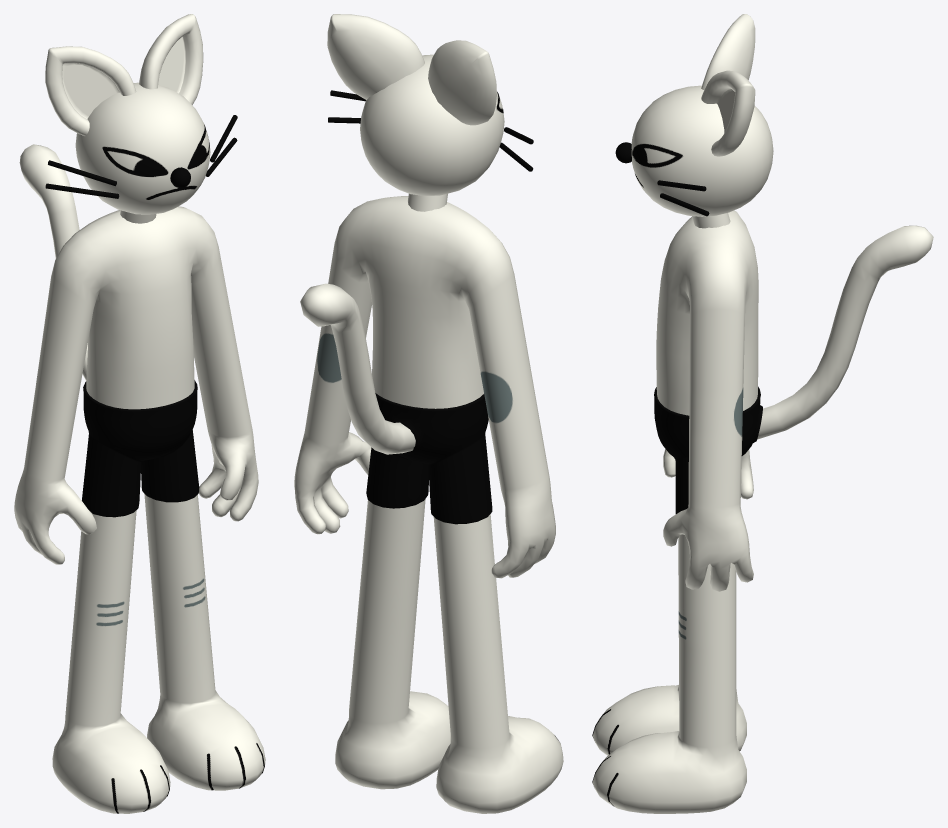
Rendered from cat01.glb.
3 views of the same model, side by side, from view 1: azimuth 30°, elevation 25°; view 2: azimuth 150°, elevation 25°; view 3: azimuth 270°, elevation 25° (orthographic). The views are drawn at different scales.
Visible parts, largest first — view 1: Body, Head; view 2: Body, Head; view 3: Body, Head.
Boxes of the visible parts, x1=… form: Body: x1=14, y1=144, x2=265, y2=813; Head: x1=45, y1=14, x2=237, y2=214; Body: x1=294, y1=193, x2=563, y2=813; Head: x1=327, y1=14, x2=533, y2=195; Body: x1=592, y1=210, x2=933, y2=813; Head: x1=615, y1=14, x2=773, y2=216.
Bounding box in the file's own units: 0.0528 × 0.1593 × 0.068.
Materials: 2 (2 with a texture image).
